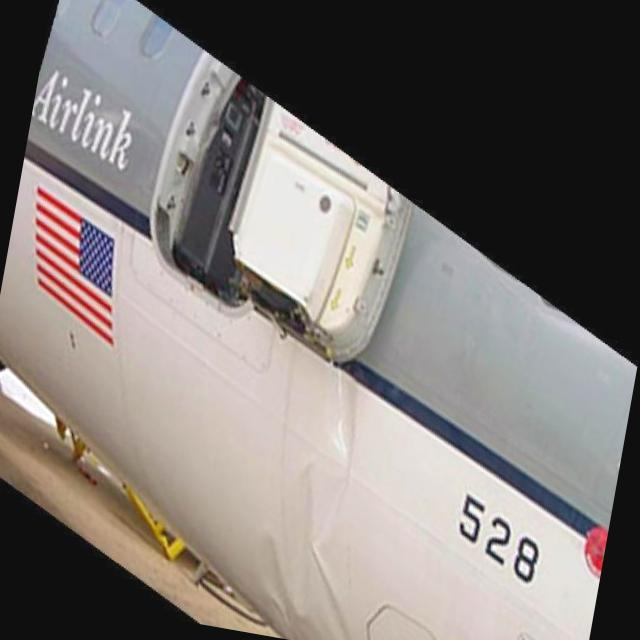dent: (242, 362, 399, 640)
